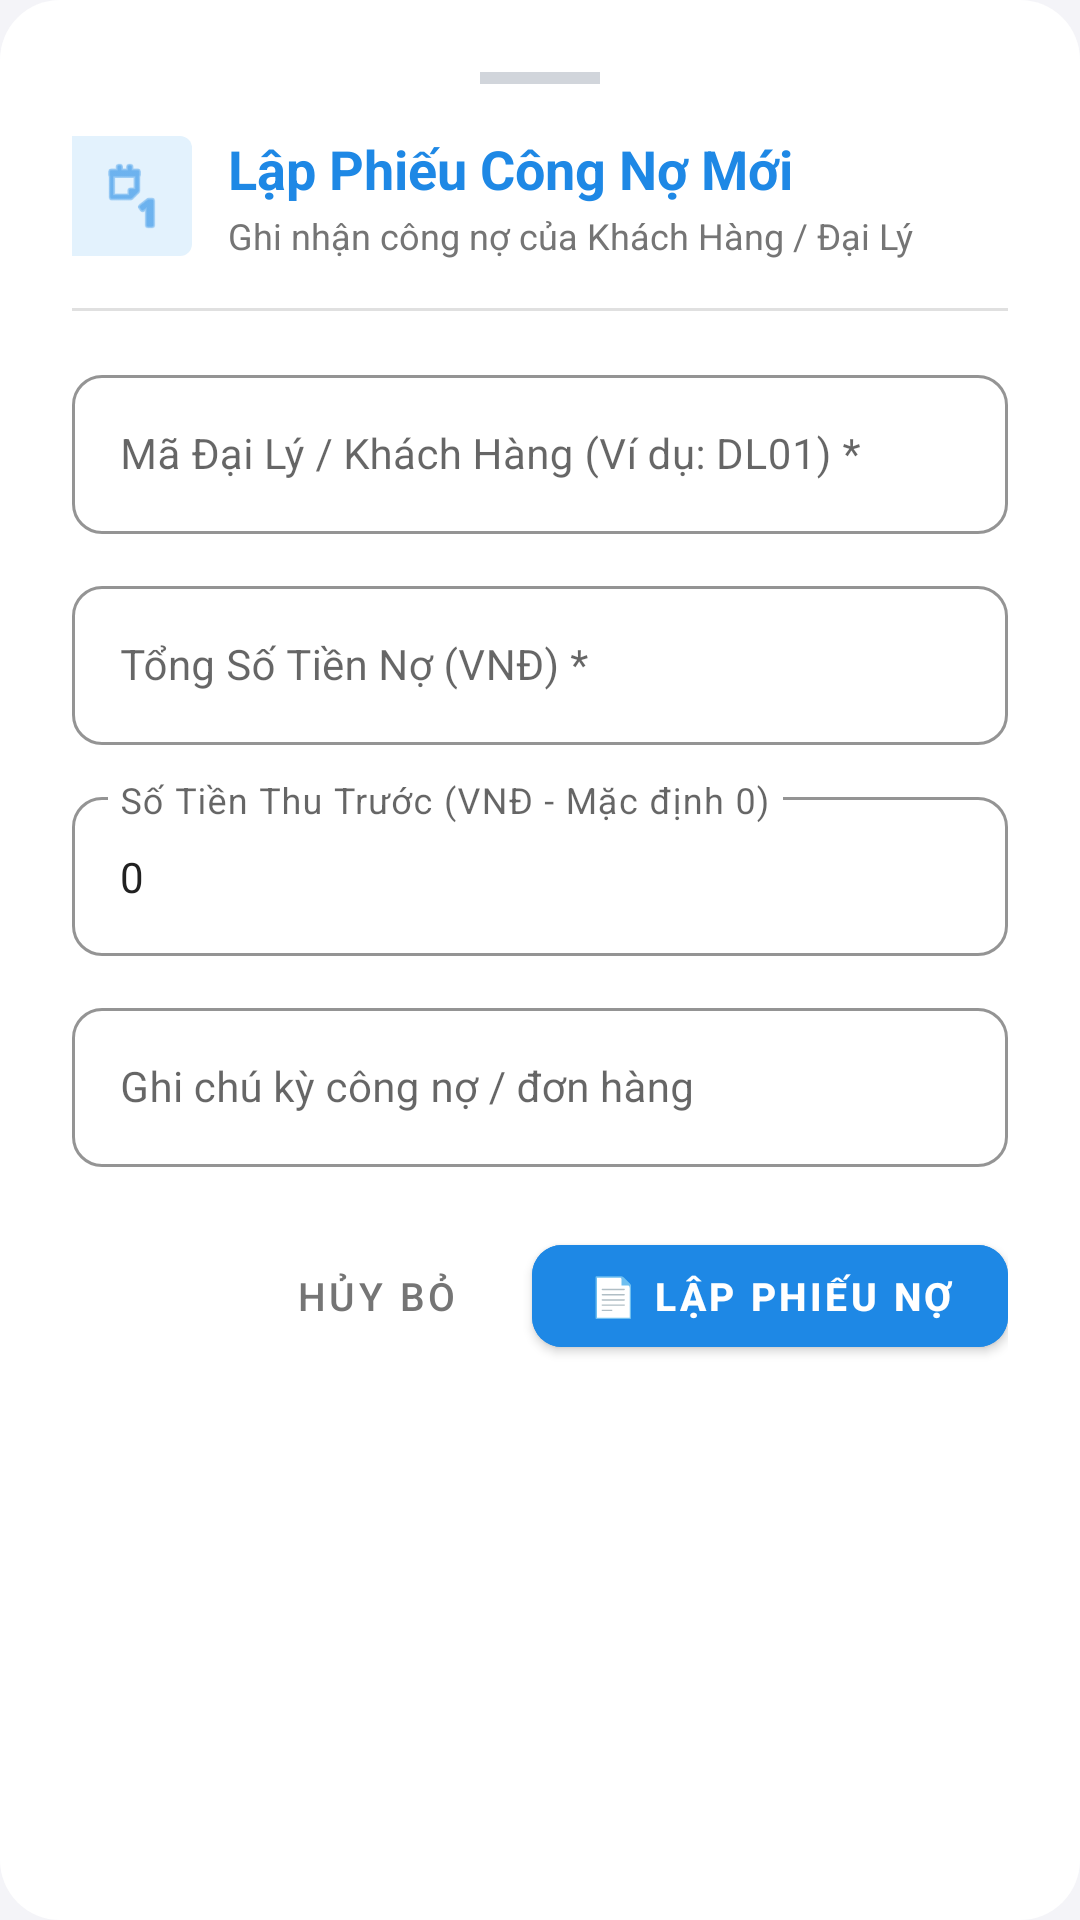

Point at icon controls on the screen. Image size 1080px x 1920px, points as point (x, y).
day: point (132, 196)
